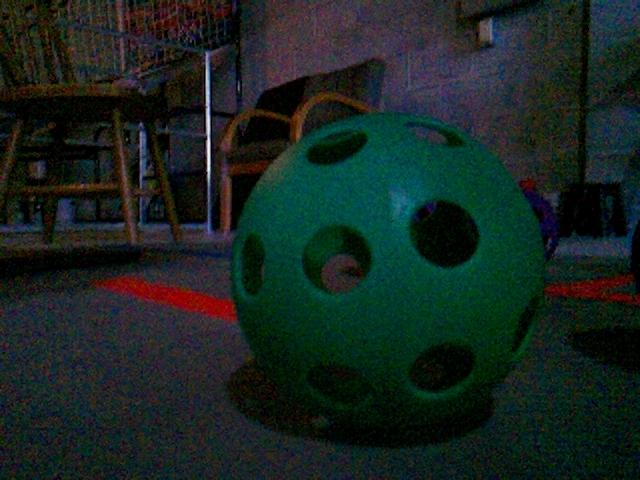Green: (228, 114, 547, 433)
